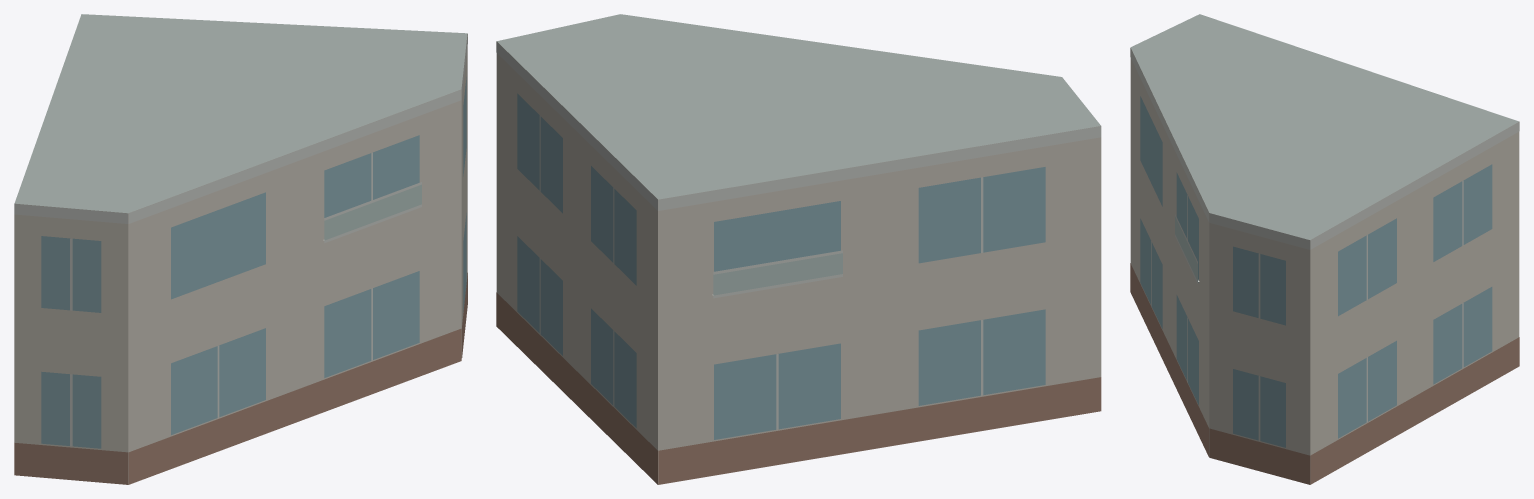
Rendered from survey-upis-33016696.glb.
The picture shows the model from 3 angles, left to right: view 1: azimuth 30°, elevation 25°; view 2: azimuth 150°, elevation 25°; view 3: azimuth 270°, elevation 25°; orthographic projection. The views are drawn at different scales.
Visible parts, largest first — view 1: survey-upis-33016696.tmp; view 2: survey-upis-33016696.tmp; view 3: survey-upis-33016696.tmp.
Boxes of the visible parts, x1,y1,x2,y2 form: survey-upis-33016696.tmp: (14,14,467,484); survey-upis-33016696.tmp: (496,14,1101,484); survey-upis-33016696.tmp: (1130,14,1519,484).
Size of the model in its own units: 12.1 by 6.1 by 8.8.
